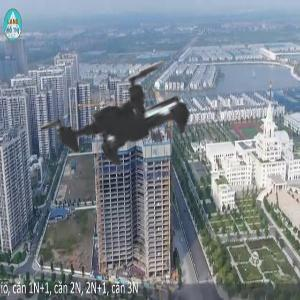drone: (1, 3, 262, 264)
